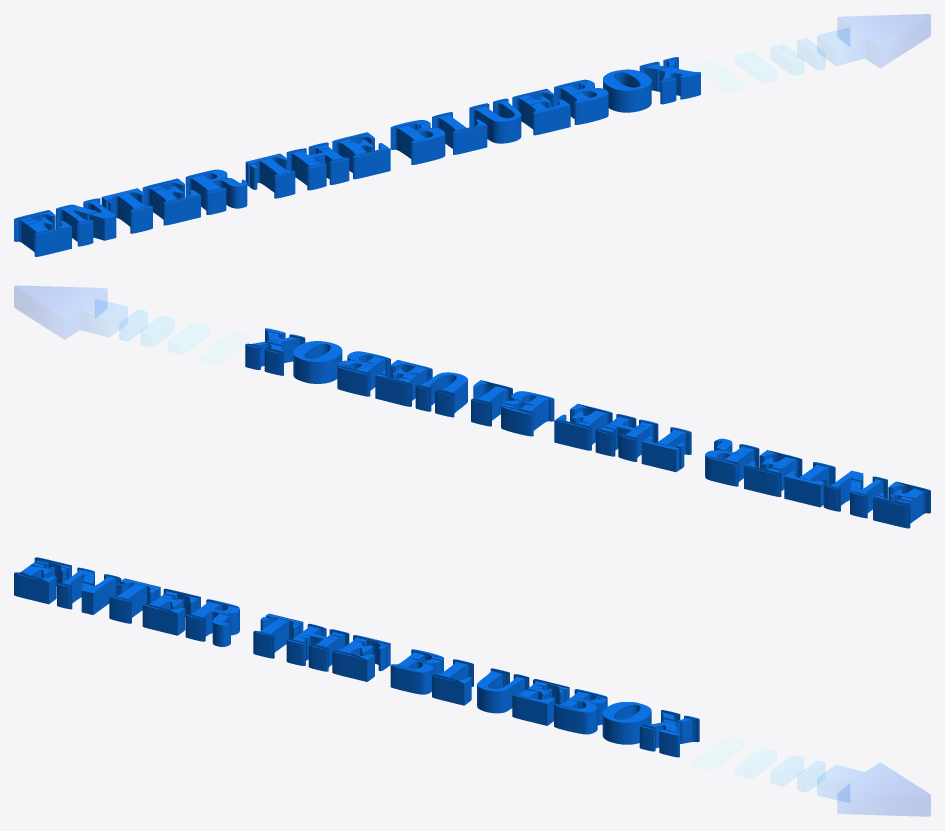
File: entertext.glb
The picture shows the model from 3 angles, top to bottom: view 1: azimuth 30°, elevation 25°; view 2: azimuth 150°, elevation 25°; view 3: azimuth 330°, elevation 25°; orthographic projection.
Visible parts, largest first — view 1: Colorful glowing arrow.03, Curve.007, Curve.001, Curve.005, Curve.002, Curve.009, Curve.004, Curve.012, Curve.008, Curve, Curve.014, Curve.013 (+4 smaller); view 2: Colorful glowing arrow.03, Curve.007, Curve.001, Curve.002, Curve.009, Curve.011, Curve, Curve.004, Curve.008, Curve.005, Curve.012, Curve.013 (+4 smaller); view 3: Colorful glowing arrow.03, Curve.007, Curve.008, Curve.014, Curve.005, Curve.002, Curve.004, Curve.001, Curve.013, Curve.012, Curve.009, Curve (+4 smaller).
Boxes of the visible parts, x1,y1,x2,y2 form: Colorful glowing arrow.03: [797, 14, 930, 67]; Curve.007: [286, 142, 349, 190]; Curve.001: [14, 210, 71, 256]; Curve.005: [185, 169, 247, 214]; Curve.002: [56, 198, 116, 246]; Curve.009: [390, 120, 445, 164]; Curve.004: [142, 178, 200, 225]; Curve.012: [512, 88, 570, 135]; Curve.008: [332, 132, 390, 179]; Curve: [603, 69, 651, 112]; Curve.014: [639, 57, 700, 104]; Curve.013: [554, 79, 608, 124]; Colorful glowing arrow.03: [14, 285, 147, 338]; Curve.007: [595, 414, 658, 461]; Curve.001: [873, 481, 930, 528]; Curve.002: [823, 470, 887, 518]; Curve.009: [501, 391, 554, 436]; Curve.011: [415, 372, 467, 417]; Curve: [293, 341, 342, 383]; Curve.004: [744, 450, 802, 496]; Curve.008: [554, 403, 612, 450]; Curve.005: [705, 438, 759, 486]; Curve.012: [375, 360, 432, 406]; Curve.013: [337, 351, 390, 396]; Colorful glowing arrow.03: [797, 763, 930, 816]; Curve.007: [286, 623, 349, 671]; Curve.008: [332, 635, 390, 681]; Curve.014: [639, 710, 699, 757]; Curve.005: [185, 599, 239, 646]; Curve.002: [57, 567, 121, 614]; Curve.004: [142, 588, 200, 635]; Curve.001: [14, 557, 71, 604]; Curve.013: [554, 689, 607, 734]; Curve.012: [512, 679, 569, 725]; Curve.009: [390, 649, 443, 694]; Curve: [602, 702, 651, 744].
Size of the model in its own units: 16.3 by 0.5293 by 1.34.
Materials: 2 (1 with a texture image).
